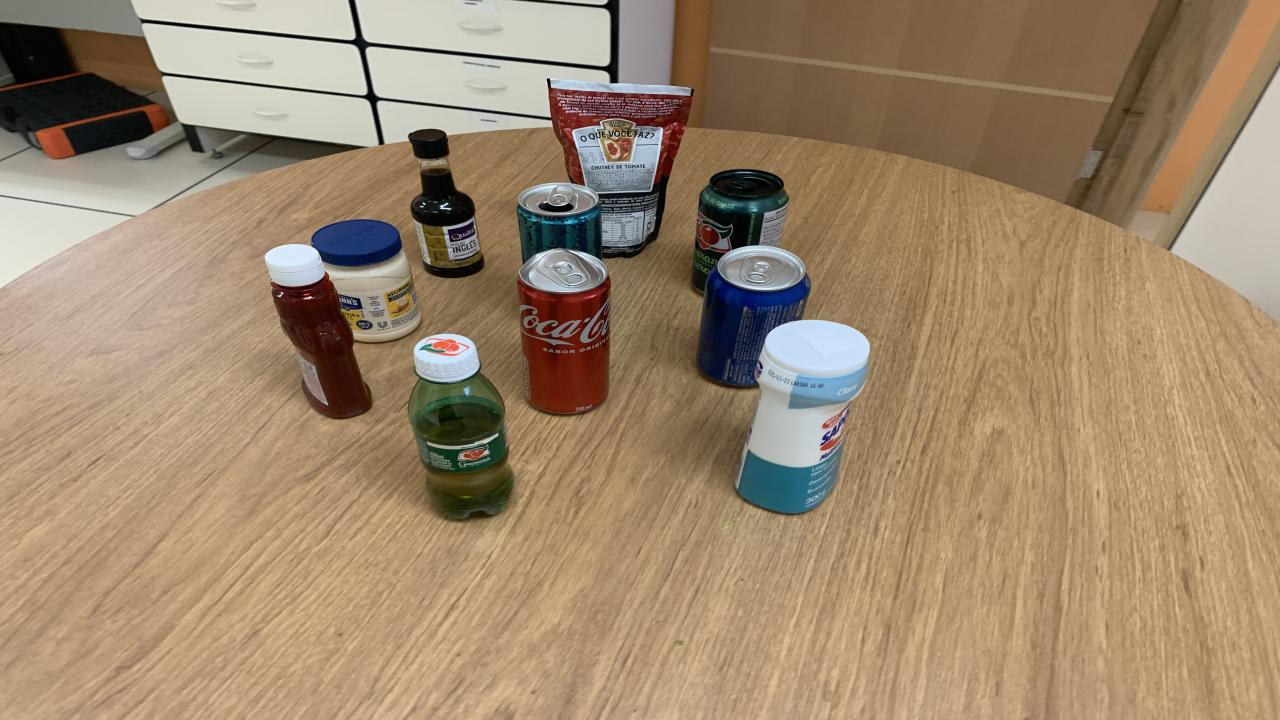Cleaner-Cleanup_Items: (735, 321, 870, 514)
Coke-Drinks: (518, 248, 610, 414)
English_Sauce-Pantry_Items: (410, 129, 485, 278)
Guarana-Drinks: (408, 334, 515, 519)
Guarana_Can-Drinks: (692, 169, 788, 291)
Ketchup-Pantry_Items: (265, 244, 372, 418)
Mayonnaise-Pantry_Items: (310, 219, 420, 343)
Tea-Drinks: (518, 182, 602, 262)
Tomato_Sauce-Pantry_Items: (548, 79, 692, 257)
Tonic-Drinks: (698, 246, 810, 386)
